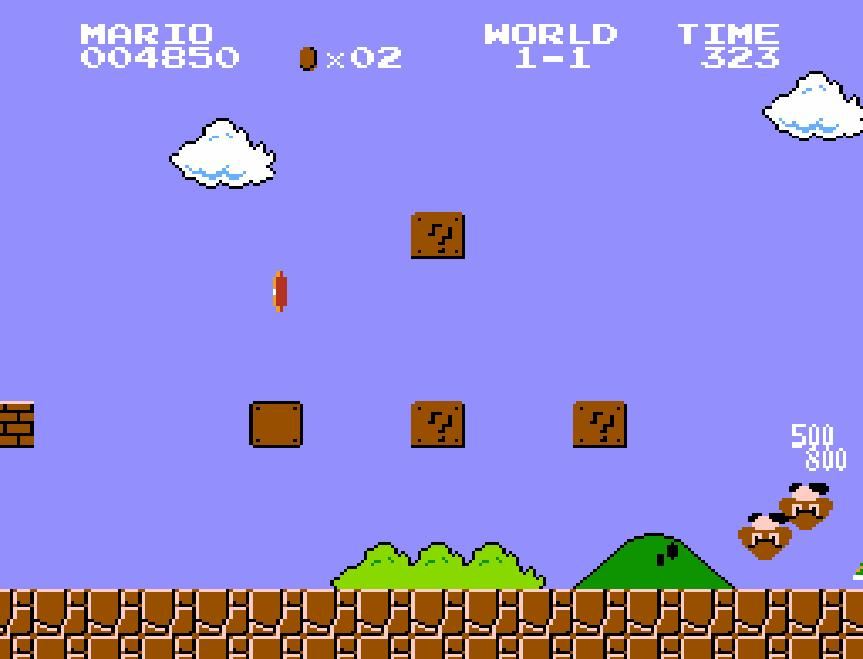little_mario: (379, 544, 437, 594)
